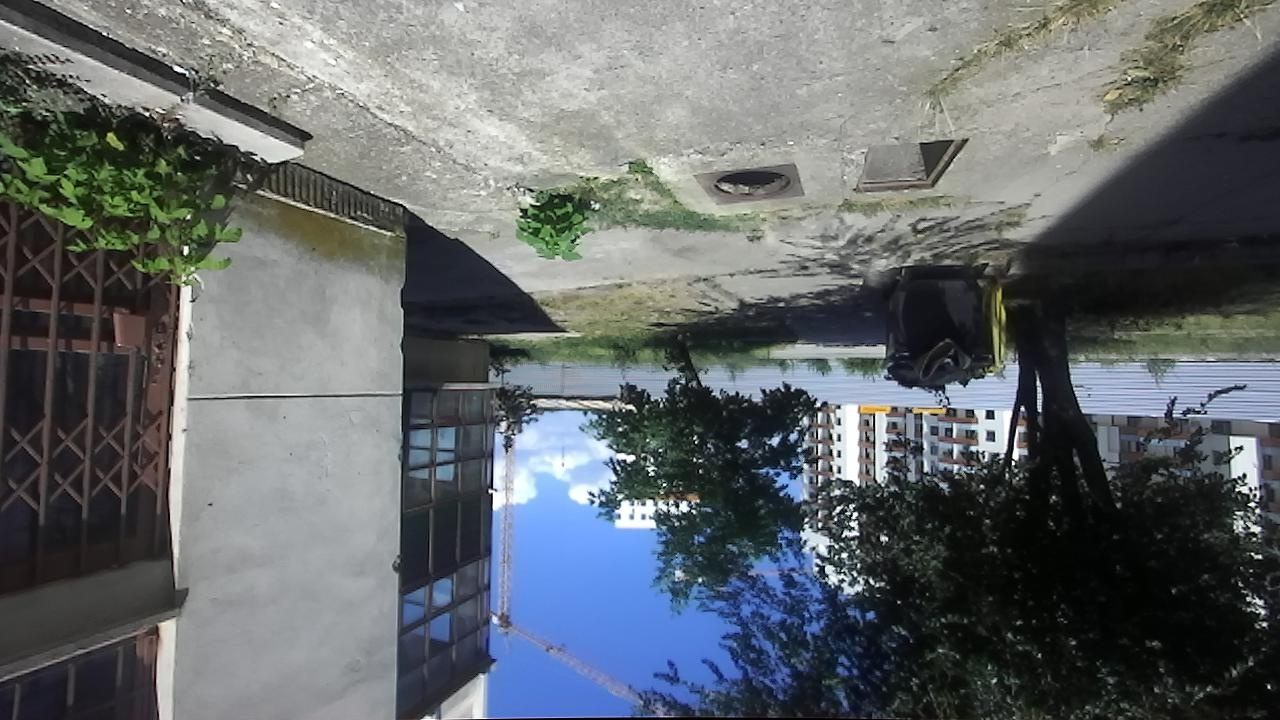drain: (850, 131, 972, 198), (706, 165, 795, 202)
